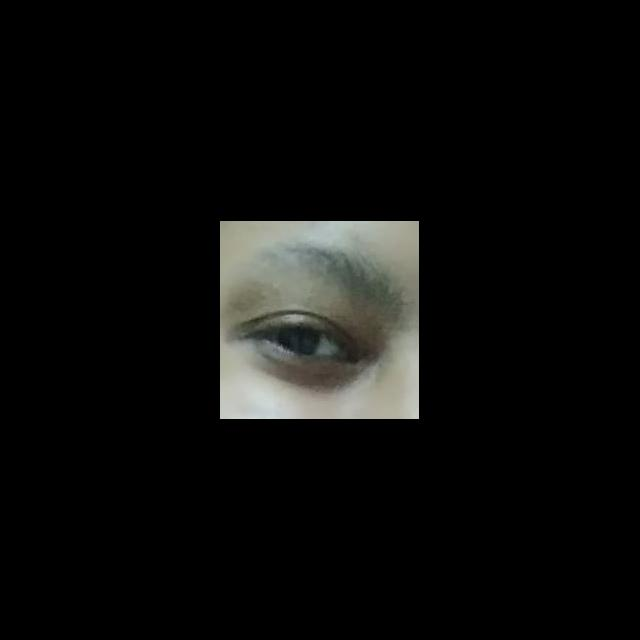eye: (259, 326, 341, 357)
iris: (277, 328, 321, 354)
